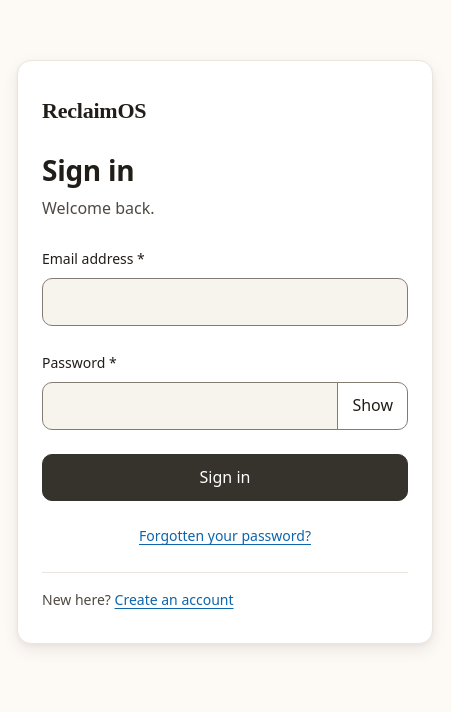
Test: the sign in screen › explains a lockout and points at the way out of it
Type "founder@example.com" into the field labelled "Email address *".
click(225, 302); type("founder@example.com")  # box x1=42 y1=278 x2=408 y2=326
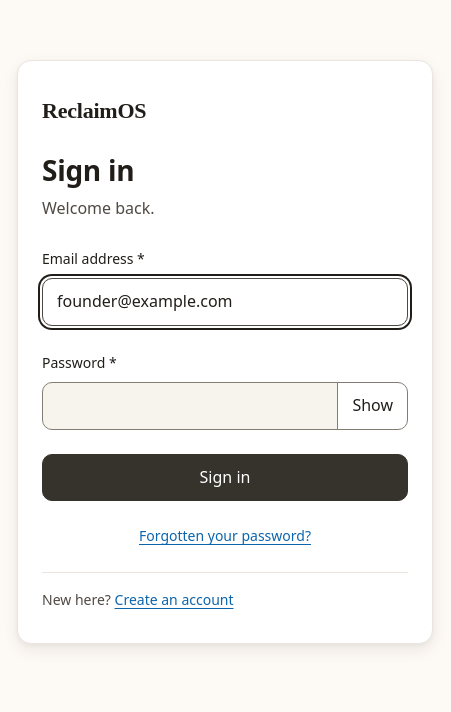
Type "correct-horse-battery-staple" into the password field labelled "Password *".
click(190, 406); type("correct-horse-battery-staple")  # box x1=42 y1=382 x2=338 y2=430
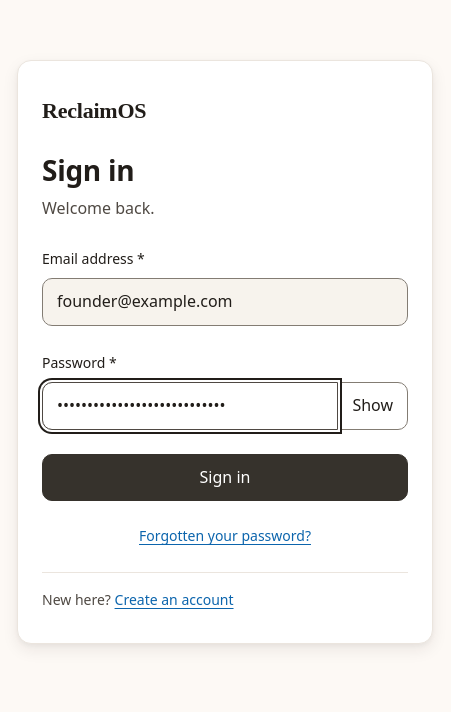
Click the button "Sign in".
click(225, 478)  # box x1=42 y1=454 x2=408 y2=502
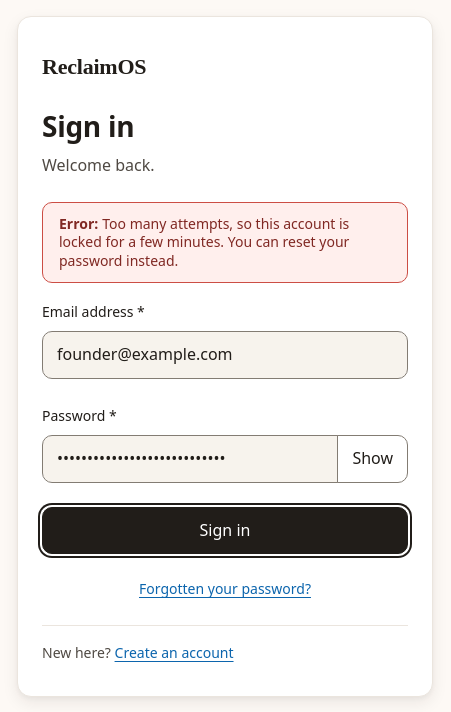
Expected: the link "Forgotten your password?" is shown, x1=139 y1=579 x2=311 y2=598
Result: the message shows "locked for a few minutes" at x1=59 y1=214 x2=349 y2=270
